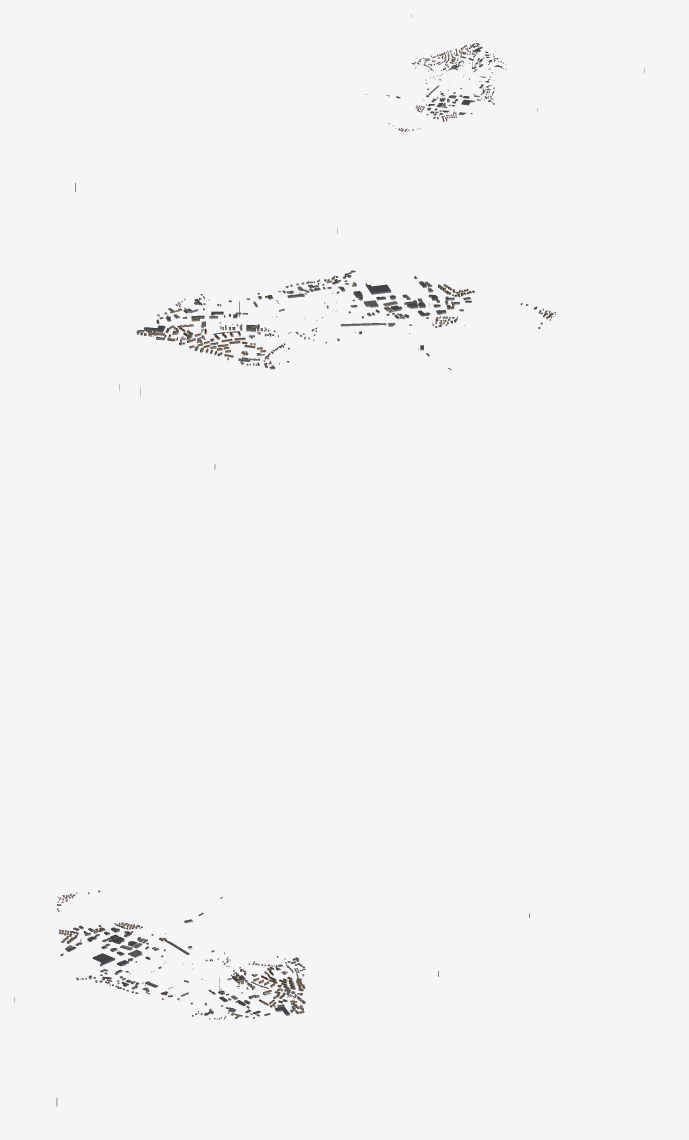
The model's file is scenery.glb.
The picture shows the model from 3 angles, top to bottom: view 1: azimuth 30°, elevation 25°; view 2: azimuth 150°, elevation 25°; view 3: azimuth 270°, elevation 25°; orthographic projection. The views are drawn at different scales.
Parts seen in each view (by area): view 1: chunk_16_13, chunk_14_16; view 2: chunk_16_13; view 3: chunk_16_13.
Part boxes in pixels (x1,y1,x2,y2): chunk_16_13: (437,46,479,67); chunk_14_16: (427,101,472,121); chunk_16_13: (160,318,255,356); chunk_16_13: (240,975,305,1004).
Size of the model in its own units: 6544 by 193 by 4290.
